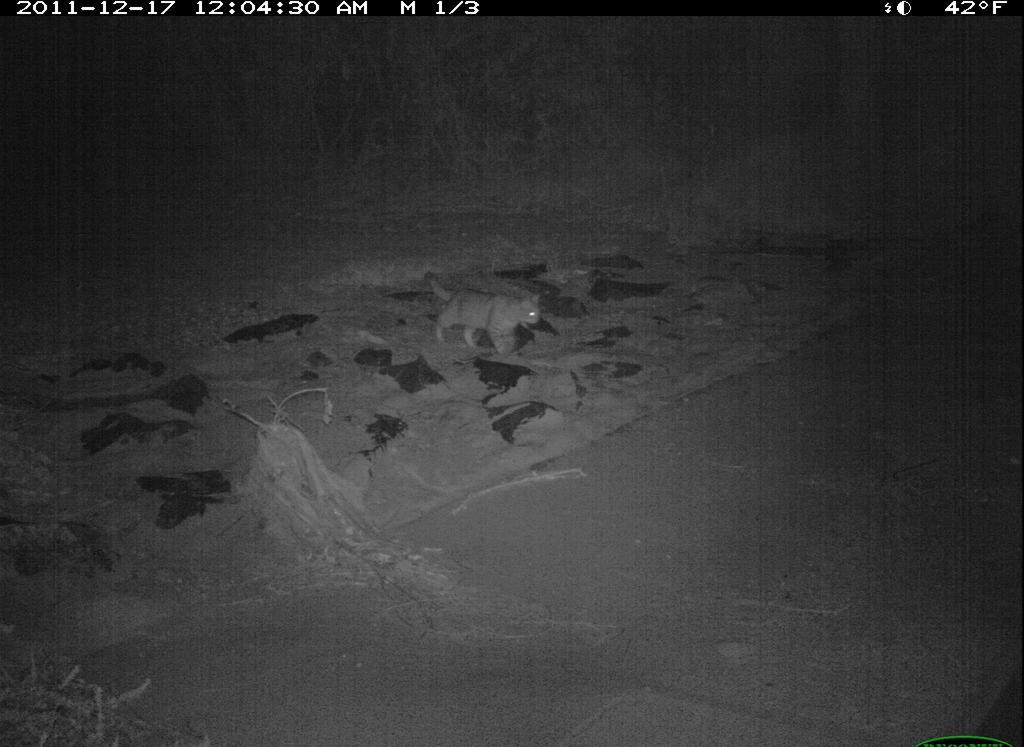cat: (422, 262, 546, 361)
